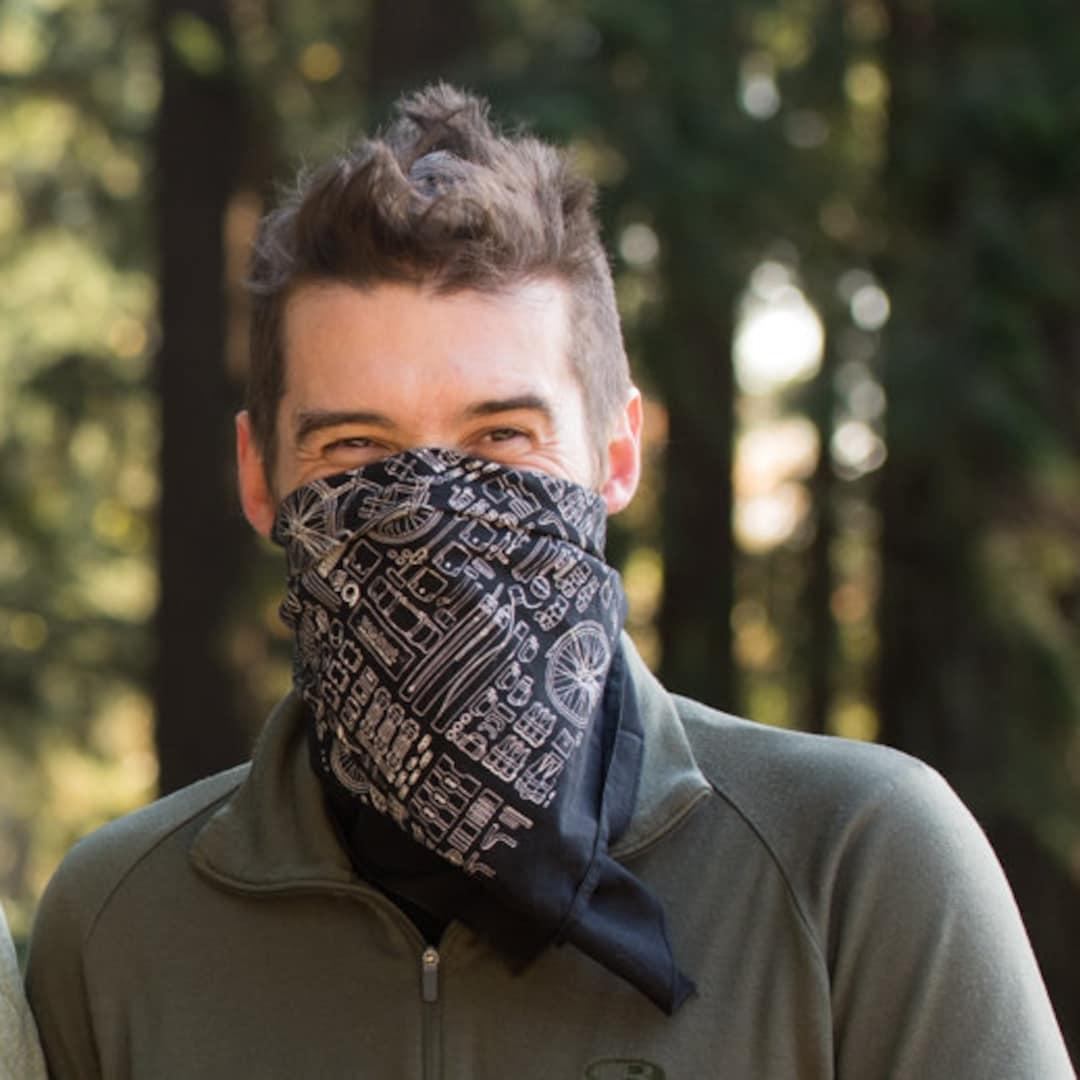scarf-kerchief: (247, 423, 663, 980)
